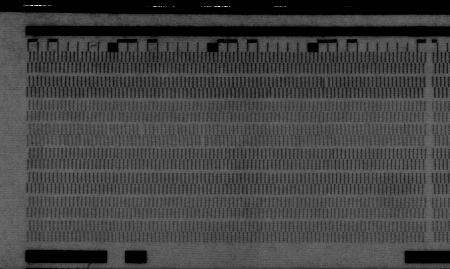Broken hole: (135, 123, 147, 137)
Oblique printing: (198, 135, 210, 148), (320, 74, 331, 88)
